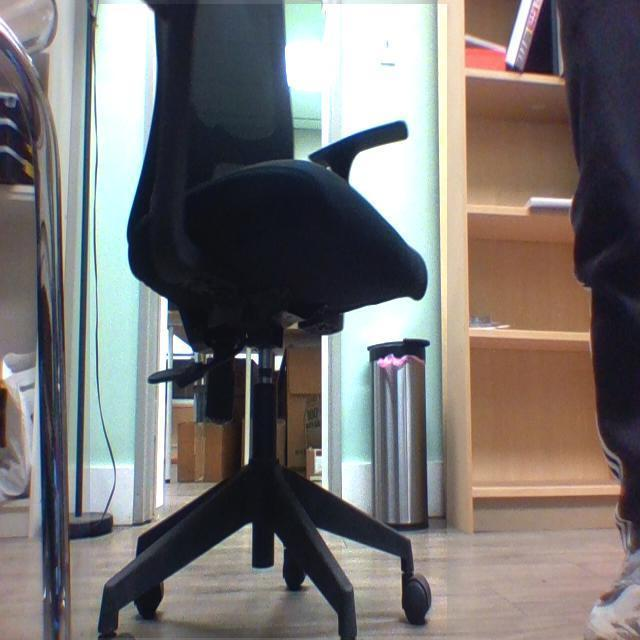chair: (95, 3, 431, 640)
